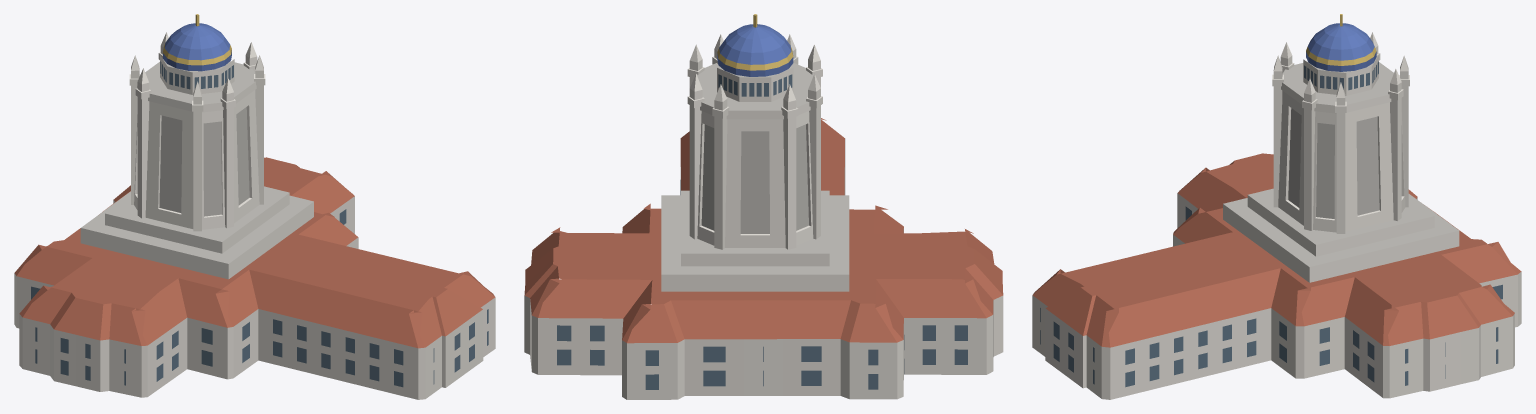
File: sat-randolph-taj-mahal.glb
The picture shows the model from 3 angles, left to right: view 1: azimuth 30°, elevation 25°; view 2: azimuth 150°, elevation 25°; view 3: azimuth 270°, elevation 25°; orthographic projection. The views are drawn at different scales.
Parts seen in each view (by area): view 1: Randolph Field Administration Building; view 2: Randolph Field Administration Building; view 3: Randolph Field Administration Building.
Part boxes in pixels (x1,y1,x2,y2): Randolph Field Administration Building: [14, 14, 495, 399]; Randolph Field Administration Building: [524, 14, 1003, 399]; Randolph Field Administration Building: [1032, 14, 1521, 399].
Bounding box in the file's own units: 61.2 × 45.2 × 67.8.
